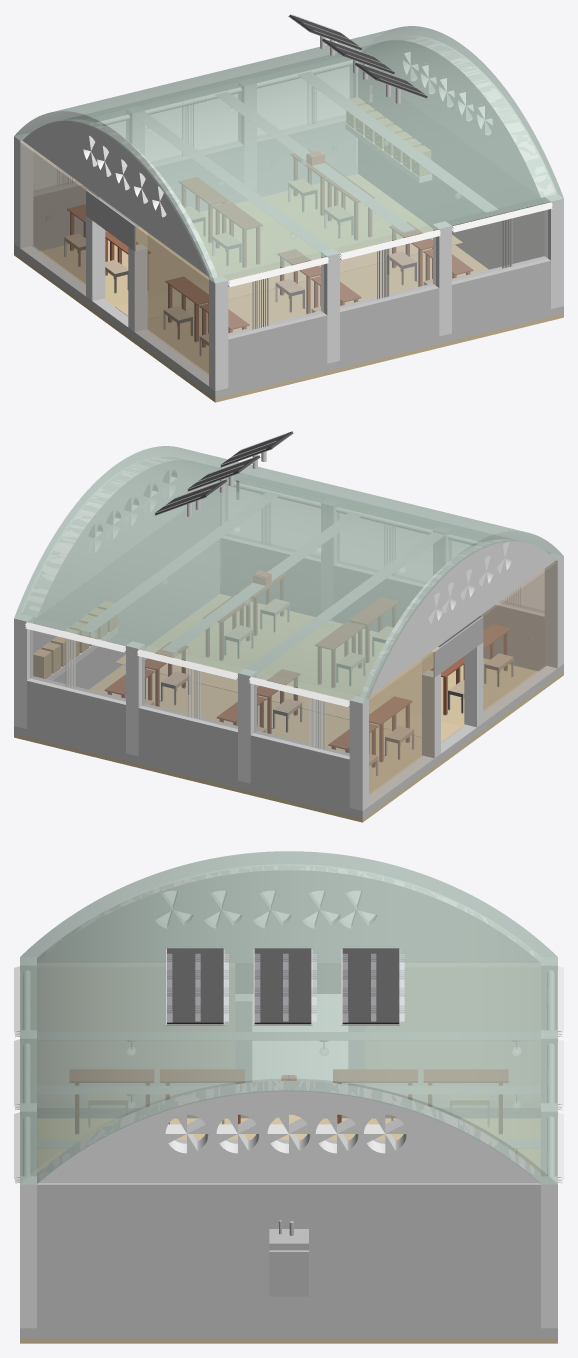
The model's file is designathon-hub.glb.
The picture shows the model from 3 angles, top to bottom: view 1: azimuth 30°, elevation 25°; view 2: azimuth 150°, elevation 25°; view 3: azimuth 270°, elevation 25°; orthographic projection. The views are drawn at different scales.
Visible parts, largest first — view 1: roof, concrete wall, Shield, floor, Body149, Body1:34, sockets, LOCKER SUPPORT, Body1:54, WALK PATH, carten, SOLAR PANNEL (+2 smaller); view 2: roof, concrete wall, Shield, floor, Body149, Body1:34, sockets, LOCKER SUPPORT, Body1:54, WALK PATH, Body1:1, carten (+2 smaller); view 3: roof, Shield, concrete wall, Body149, sockets, SOLAR PANNEL, floor, LOCKER SUPPORT, Body1:66, Body1:54.
Boxes of the visible parts, x1=… form: roof: x1=14, y1=26, x2=563, y2=283; concrete wall: x1=14, y1=68, x2=563, y2=398; Shield: x1=14, y1=36, x2=563, y2=390; floor: x1=14, y1=174, x2=563, y2=402; Body149: x1=20, y1=142, x2=218, y2=385; Body1:34: x1=34, y1=150, x2=547, y2=335; sockets: x1=46, y1=16, x2=497, y2=355; LOCKER SUPPORT: x1=67, y1=150, x2=473, y2=346; Body1:54: x1=64, y1=179, x2=432, y2=354; WALK PATH: x1=115, y1=229, x2=462, y2=319; carten: x1=57, y1=86, x2=512, y2=329; SOLAR PANNEL: x1=289, y1=14, x2=427, y2=98; roof: x1=14, y1=446, x2=563, y2=703; concrete wall: x1=14, y1=488, x2=563, y2=818; Shield: x1=14, y1=451, x2=563, y2=810; floor: x1=14, y1=594, x2=563, y2=822; Body149: x1=359, y1=561, x2=557, y2=805; Body1:34: x1=30, y1=570, x2=543, y2=755; sockets: x1=79, y1=433, x2=531, y2=775; LOCKER SUPPORT: x1=46, y1=570, x2=510, y2=766; Body1:54: x1=145, y1=599, x2=513, y2=774; WALK PATH: x1=115, y1=649, x2=462, y2=742; Body1:1: x1=33, y1=601, x2=116, y2=678; carten: x1=65, y1=506, x2=520, y2=749; roof: x1=20, y1=851, x2=557, y2=1184; Shield: x1=14, y1=865, x2=563, y2=1328; concrete wall: x1=20, y1=1101, x2=557, y2=1338; Body149: x1=37, y1=963, x2=540, y2=1108; sockets: x1=37, y1=949, x2=540, y2=1296; SOLAR PANNEL: x1=167, y1=948, x2=399, y2=1024; floor: x1=20, y1=1118, x2=557, y2=1343; LOCKER SUPPORT: x1=69, y1=1069, x2=508, y2=1133; Body1:66: x1=167, y1=954, x2=404, y2=1022; Body1:54: x1=88, y1=1094, x2=489, y2=1125.
Bounding box in the file's own units: 10.25 × 6.02 × 9.71.
